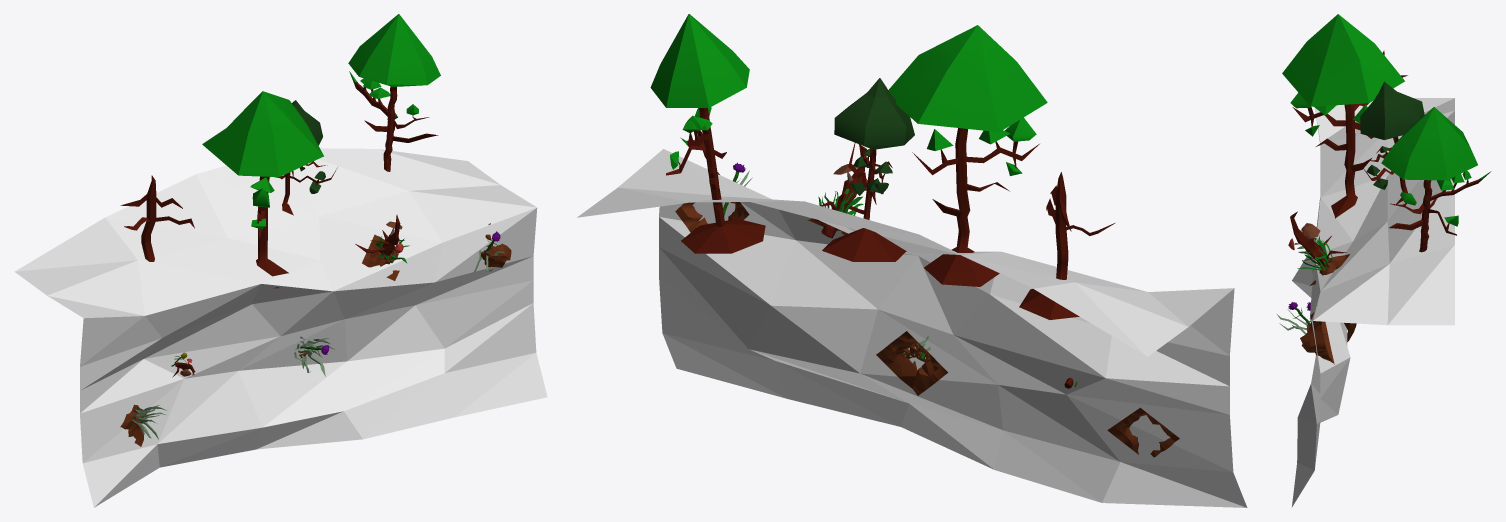
Rendered from Jungle_wall_1.FBX.
3 renders of one model, left to right at view 1: azimuth 30°, elevation 25°; view 2: azimuth 150°, elevation 25°; view 3: azimuth 270°, elevation 25°, orthographic. The views are drawn at different scales.
Parts seen in each view (by area): view 1: Wall_005, ForestLevelLightGreenTree2Asset, ForestLevelLightGreenTree4Asset, ForestLevelTreeNoLeaves1Asset, ForestLevelDarkGreenTree1Asset, ForestLevelsTurqoiseGrass1Asset, ForestLevelLightGreenGrass3Asset, ForestLevelTurqoiseGrass5Asset; view 2: Wall_005, ForestLevelLightGreenTree2Asset, ForestLevelLightGreenTree4Asset, ForestLevelDarkGreenTree1Asset, ForestLevelTreeNoLeaves1Asset, ForestLevelTurqoiseGrass1Asset, ForestLevelsTurqoiseGrass1Asset, ForestLevelTurqoiseGrass5Asset, ForestLevelLog3Asset; view 3: Wall_005, ForestLevelLightGreenTree2Asset, ForestLevelLightGreenTree4Asset, ForestLevelDarkGreenTree1Asset, ForestLevelTurqoiseGrass5Asset, ForestLevelLightGreenGrass3Asset, ForestLevelLog3Asset.
Boxes of the visible parts, x1,y1,x2,y2 form: Wall_005: (14, 148, 547, 507); ForestLevelLightGreenTree2Asset: (202, 91, 323, 288); ForestLevelLightGreenTree4Asset: (348, 14, 440, 171); ForestLevelTreeNoLeaves1Asset: (120, 175, 194, 261); ForestLevelDarkGreenTree1Asset: (274, 100, 337, 215); ForestLevelsTurqoiseGrass1Asset: (120, 404, 166, 446); ForestLevelLightGreenGrass3Asset: (362, 234, 409, 280); ForestLevelTurqoiseGrass5Asset: (471, 223, 511, 274); Wall_005: (577, 149, 1247, 507); ForestLevelLightGreenTree2Asset: (888, 25, 1047, 286); ForestLevelLightGreenTree4Asset: (650, 14, 765, 253); ForestLevelDarkGreenTree1Asset: (822, 78, 914, 261); ForestLevelTreeNoLeaves1Asset: (1019, 172, 1114, 319); ForestLevelTurqoiseGrass1Asset: (876, 331, 948, 395); ForestLevelsTurqoiseGrass1Asset: (1107, 407, 1179, 457); ForestLevelTurqoiseGrass5Asset: (675, 170, 752, 232); ForestLevelLog3Asset: (820, 144, 866, 238); Wall_005: (1291, 98, 1454, 507); ForestLevelLightGreenTree2Asset: (1282, 14, 1404, 218); ForestLevelLightGreenTree4Asset: (1381, 107, 1491, 252); ForestLevelDarkGreenTree1Asset: (1360, 81, 1424, 205); ForestLevelTurqoiseGrass5Asset: (1277, 305, 1334, 364); ForestLevelLightGreenGrass3Asset: (1297, 235, 1349, 285); ForestLevelLog3Asset: (1290, 211, 1346, 267).
Size of the model in its own units: 4000 by 2978 by 1603.
